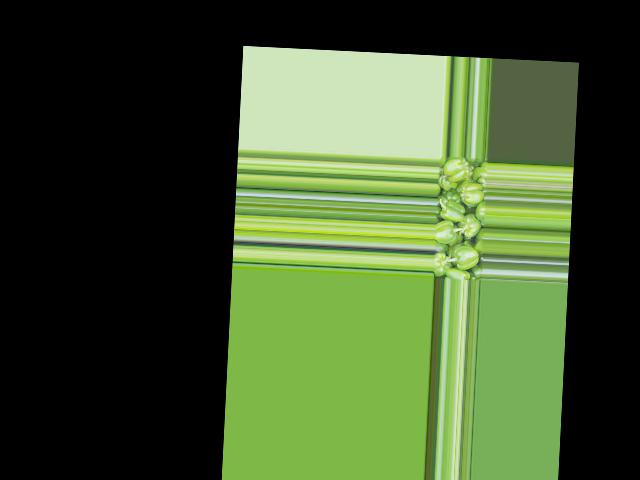bell_pepper: (434, 156, 488, 279)
